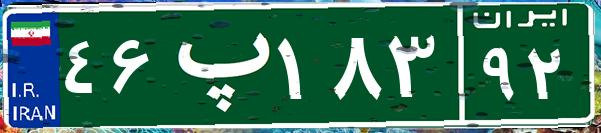1: (273, 28, 330, 110)
2: (525, 38, 570, 115)
3: (385, 28, 445, 110)
4: (57, 26, 110, 107)
6: (110, 28, 158, 105)
8: (330, 28, 385, 110)
9: (475, 38, 525, 113)
پ: (158, 15, 273, 115)
